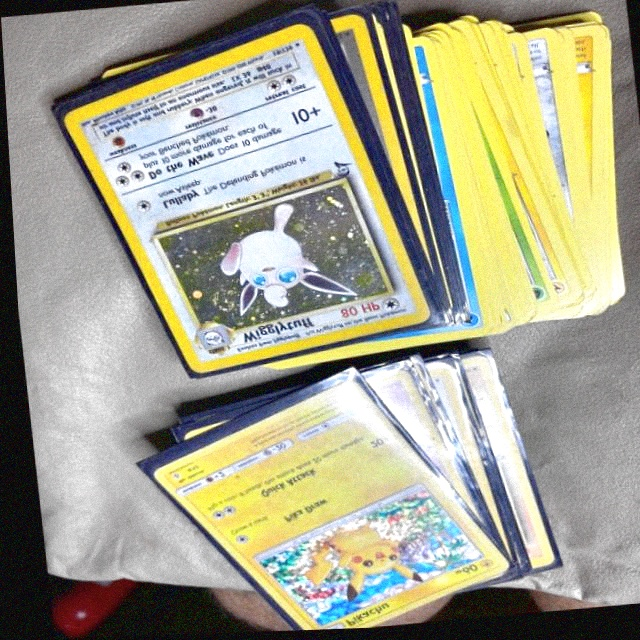card: (50, 16, 440, 377), (142, 378, 508, 631)
